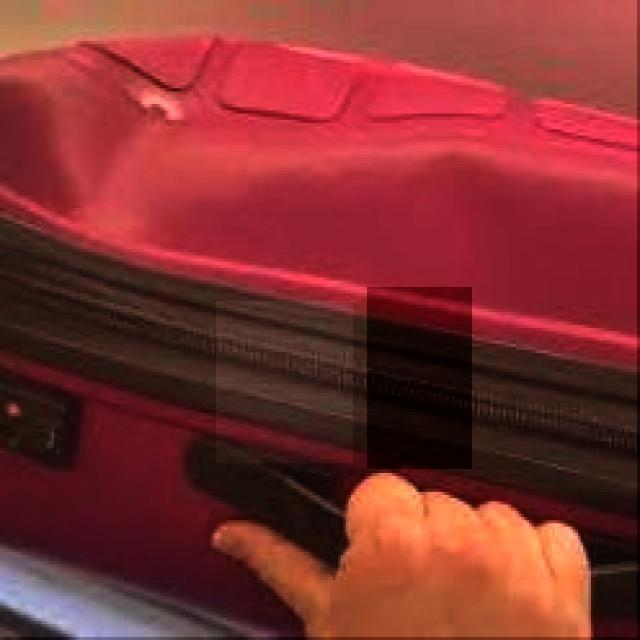Suitcase: (0, 28, 640, 626)
